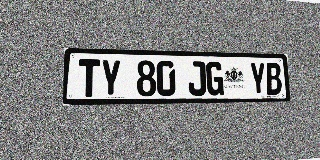0: (156, 60, 175, 96)
8: (137, 60, 156, 96)
B: (265, 63, 282, 95)
G: (206, 61, 224, 96)
J: (188, 61, 206, 96)
T: (78, 59, 100, 97)
Y: (100, 59, 121, 97), (249, 62, 266, 95)
